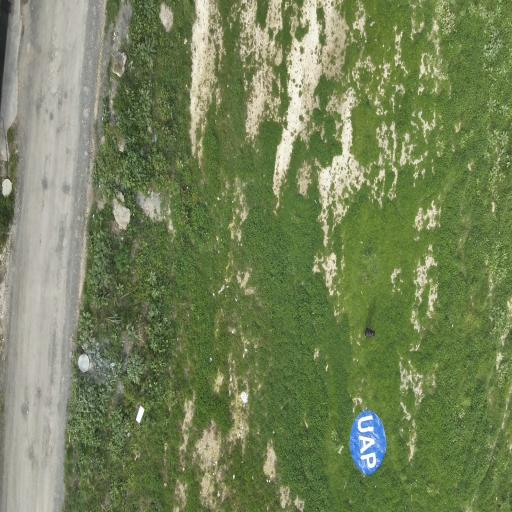UAP: (350, 411, 386, 475)
person: (365, 328, 374, 338)
